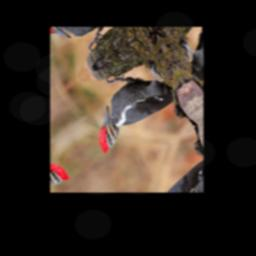Woodpecker: (74, 46, 179, 155)
